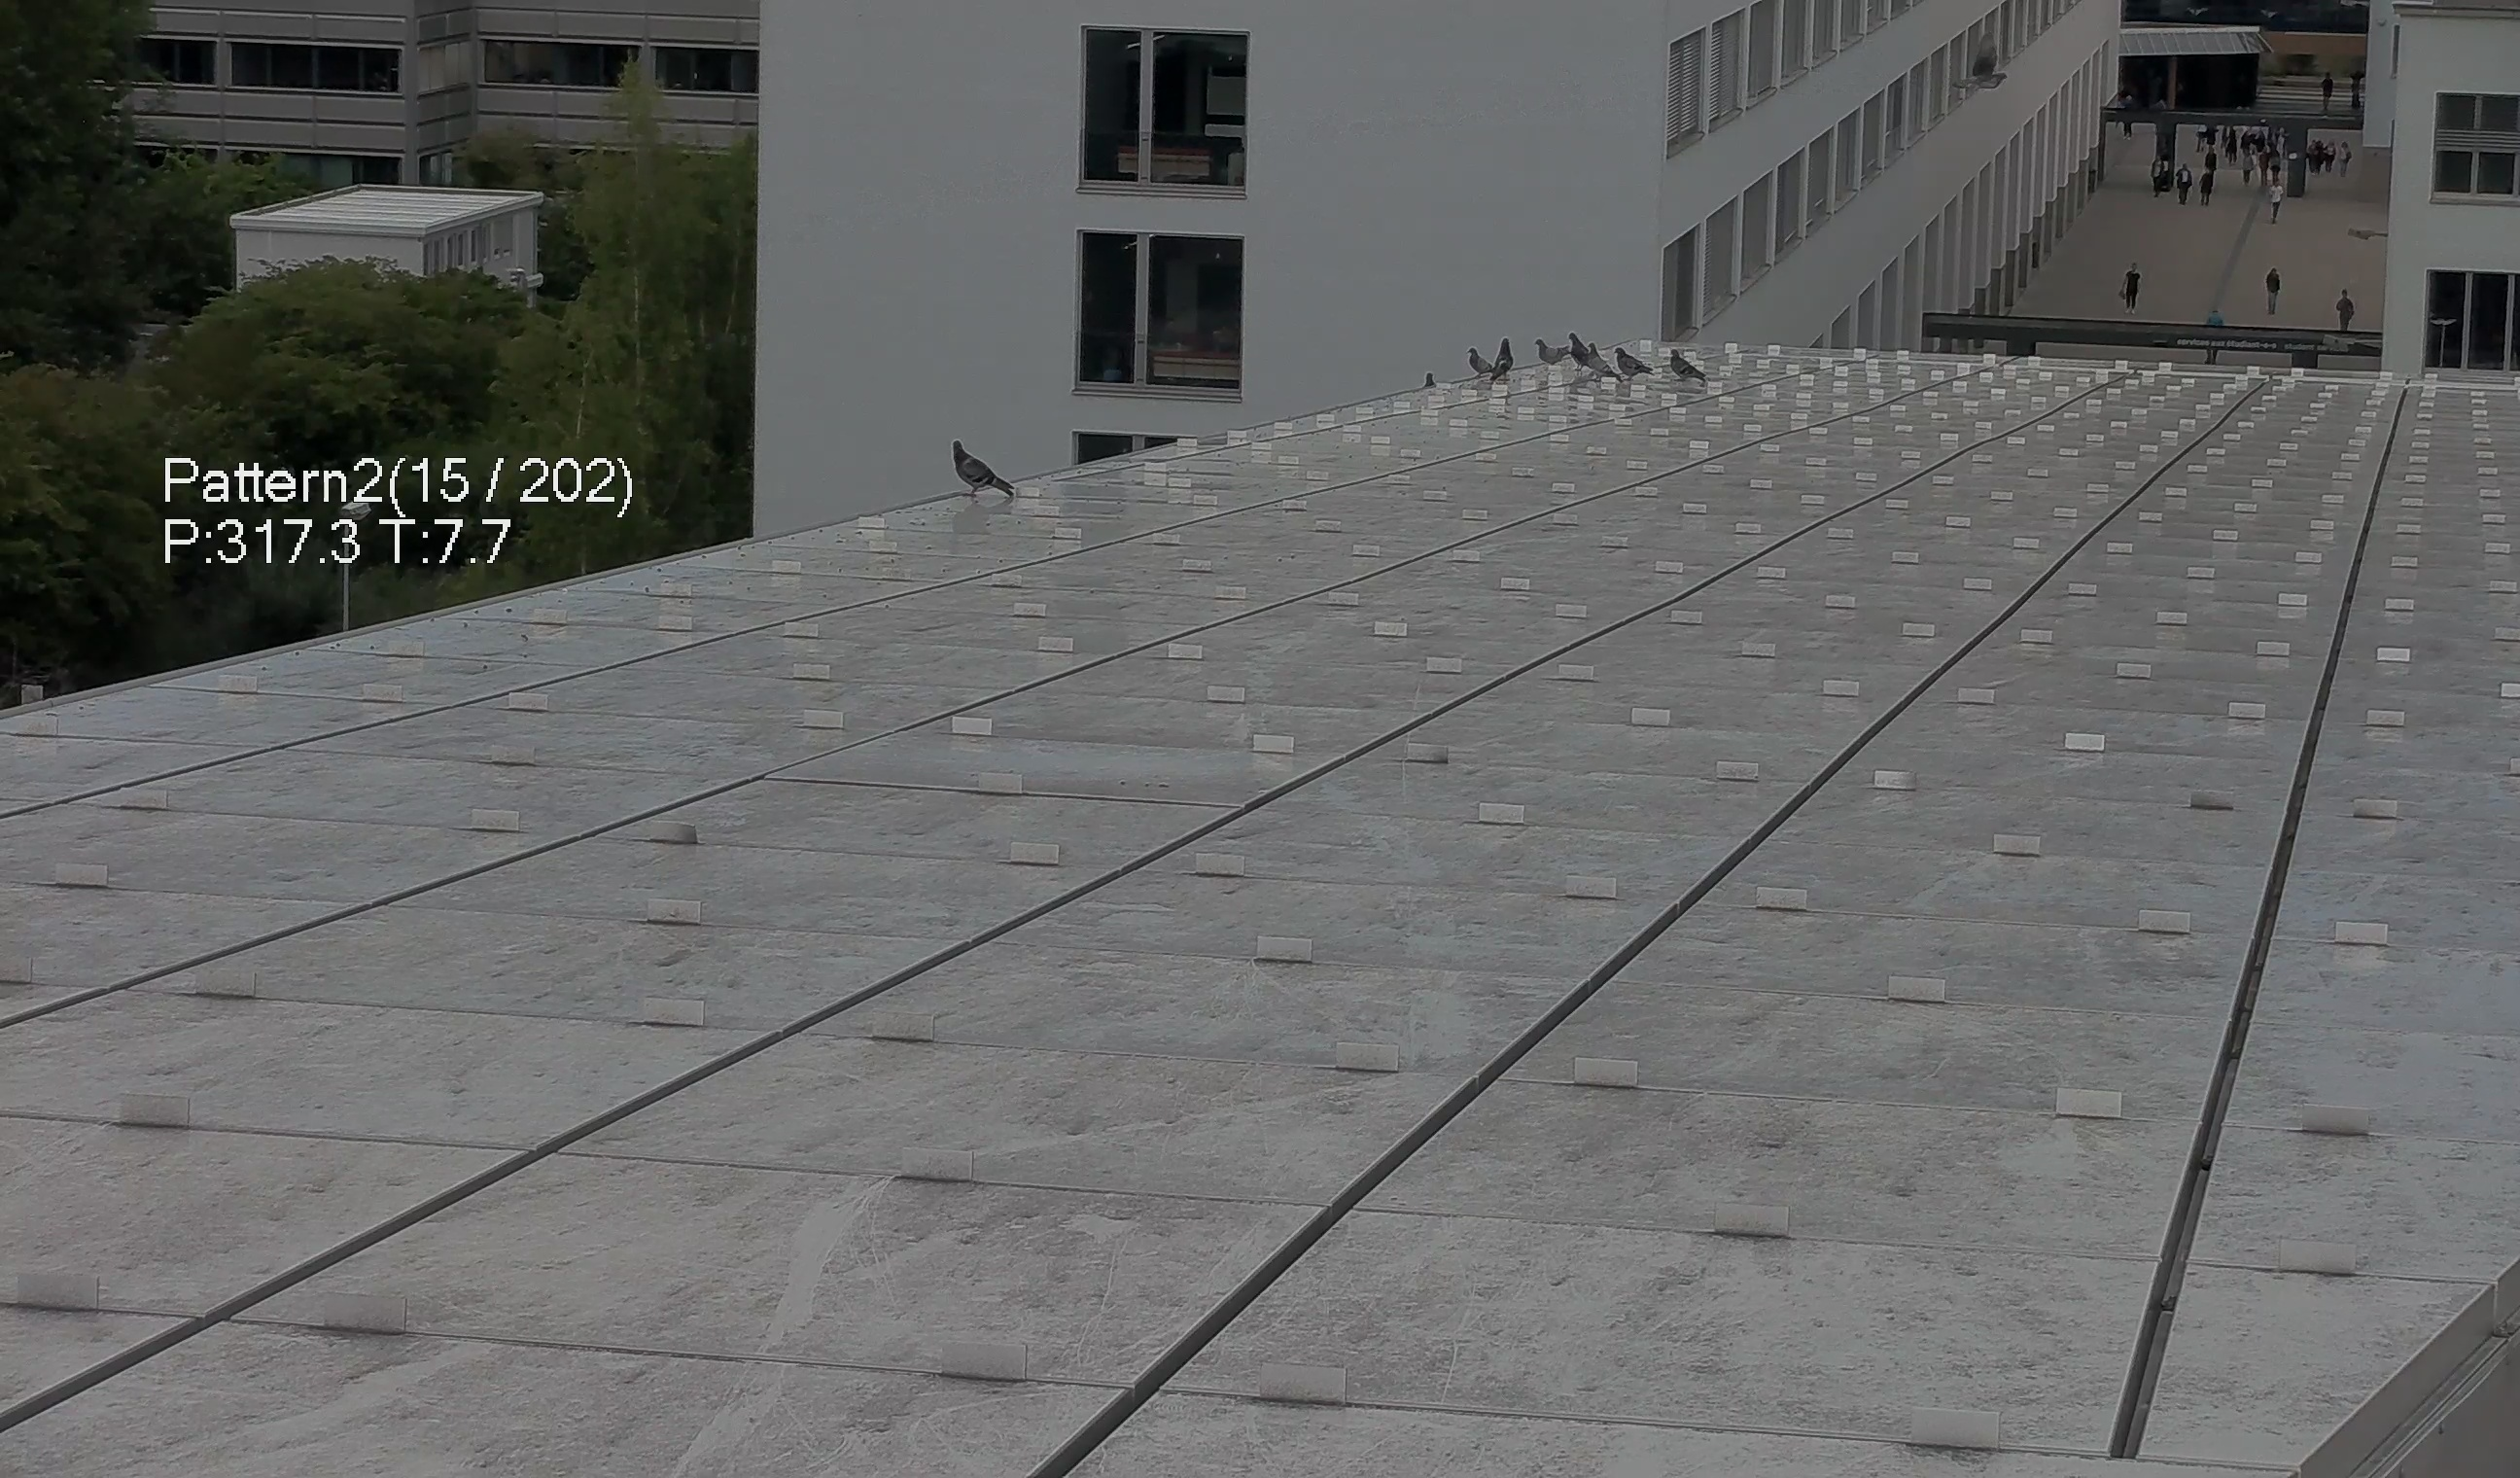Pigeon: (934, 421, 1027, 507), (1667, 345, 1709, 389), (1586, 340, 1621, 389), (1614, 343, 1658, 377), (1528, 338, 1574, 366), (1491, 338, 1516, 384), (1565, 334, 1591, 371), (1467, 348, 1500, 375), (1419, 371, 1446, 391)
